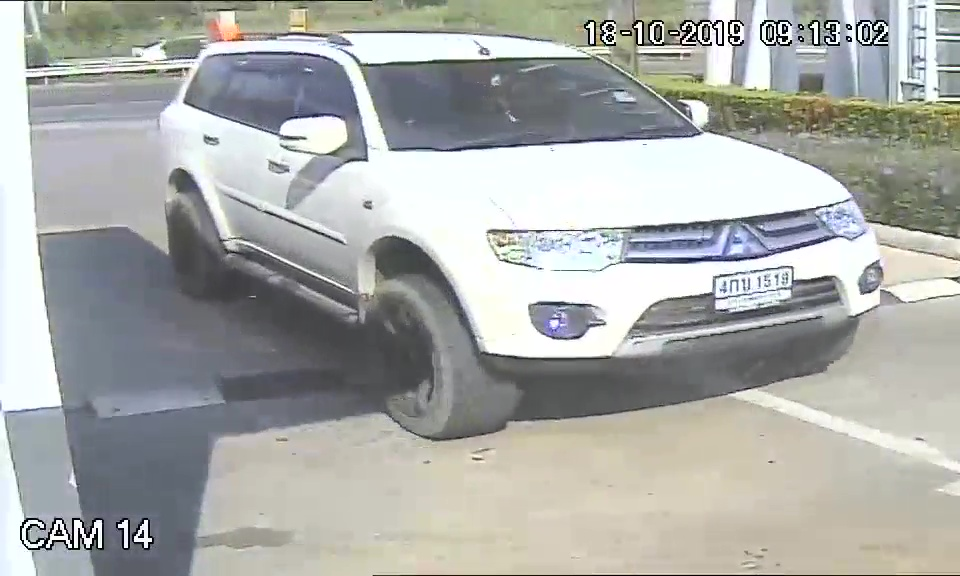pickup: (152, 29, 888, 440)
